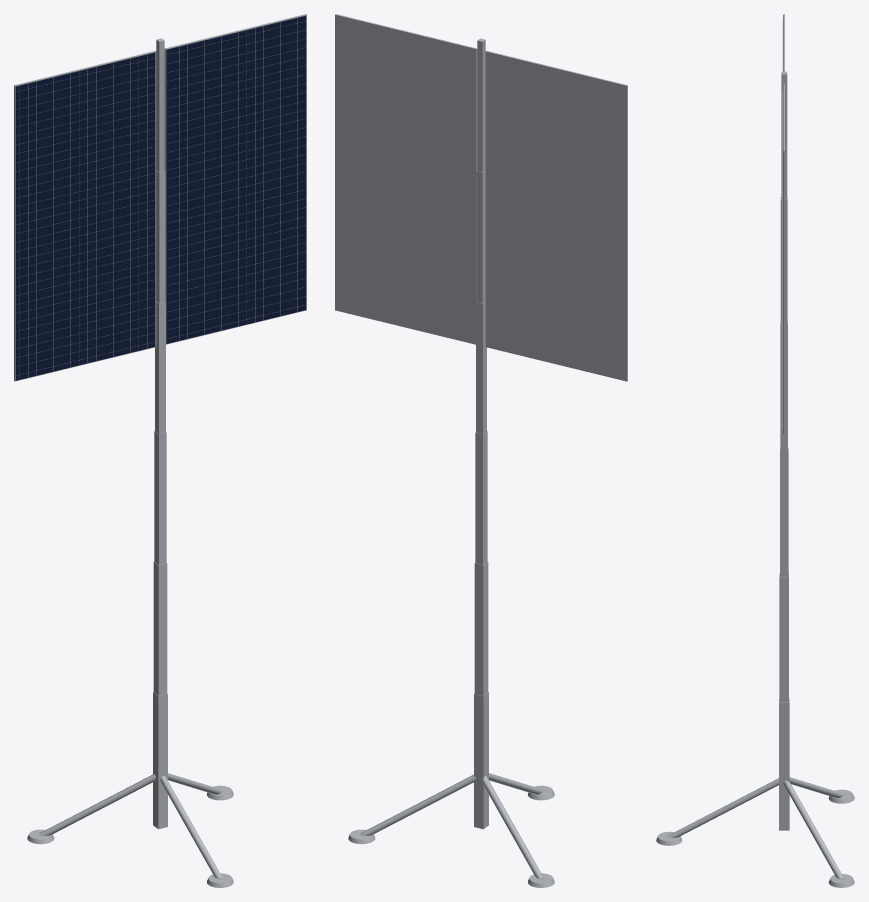
File: solar_mast.glb
3 renders of one model, left to right at view 1: azimuth 30°, elevation 25°; view 2: azimuth 150°, elevation 25°; view 3: azimuth 270°, elevation 25°, orthographic. The views are drawn at different scales.
Parts seen in each view (by area): view 1: photovoltaic_surface (×2), panel_frame (×2), telescopic_mast_1, telescopic_mast_0, base_leg (×2), telescopic_mast_2, telescopic_mast_3, telescopic_mast_4, telescopic_mast_5; view 2: panel_frame (×2), telescopic_mast_1, telescopic_mast_0, base_leg (×2), telescopic_mast_2, telescopic_mast_3, telescopic_mast_4, telescopic_mast_5; view 3: base_leg (×2), telescopic_mast_0, telescopic_mast_1, telescopic_mast_2, telescopic_mast_3, telescopic_mast_4, panel_frame, telescopic_mast_5.
Part boxes in pixels (x1,y1,x2,y2): photovoltaic_surface (×2): (15,16,305,380); panel_frame (×2): (14,14,306,381); telescopic_mast_1: (153,562,167,695); telescopic_mast_0: (153,692,167,829); base_leg (×2): (39,774,222,879); telescopic_mast_2: (154,431,166,564); telescopic_mast_3: (155,301,165,433); telescopic_mast_4: (156,170,165,303); telescopic_mast_5: (156,38,164,172); panel_frame (×2): (335,14,627,381); telescopic_mast_1: (474,562,488,695); telescopic_mast_0: (474,692,488,829); base_leg (×2): (360,774,543,878); telescopic_mast_2: (475,431,487,564); telescopic_mast_3: (476,301,486,433); telescopic_mast_4: (476,170,485,303); telescopic_mast_5: (477,38,485,172); base_leg (×2): (667,778,843,879); telescopic_mast_0: (779,698,789,830); telescopic_mast_1: (779,573,788,702); telescopic_mast_2: (780,447,788,576); telescopic_mast_3: (780,322,787,451); telescopic_mast_4: (780,197,787,325); panel_frame: (783,84,784,435); telescopic_mast_5: (781,71,787,199).
Bounding box in the file's own units: 6.2 × 16.22 × 3.8.
